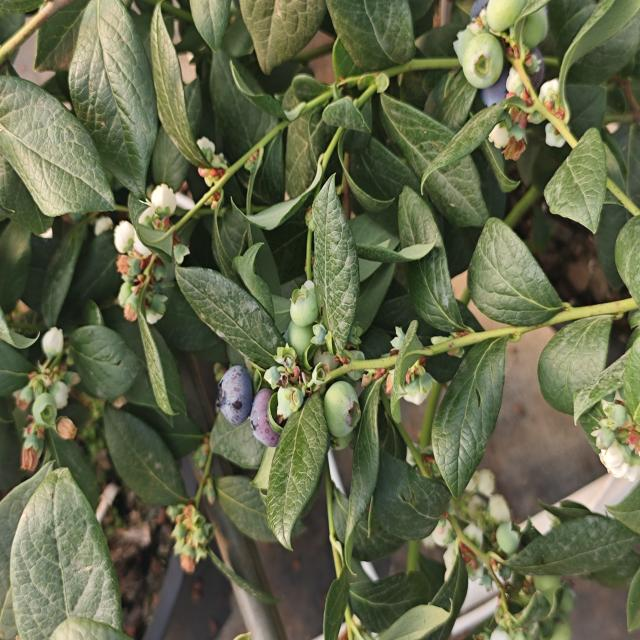ripe: (472, 48, 546, 124), (243, 384, 296, 447), (213, 362, 255, 430), (458, 0, 496, 25)
